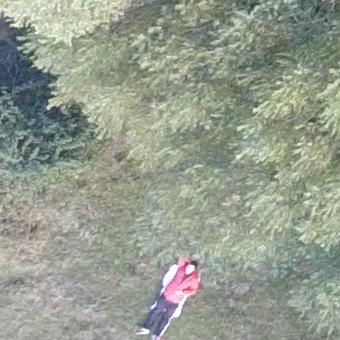human: (134, 252, 208, 340)
